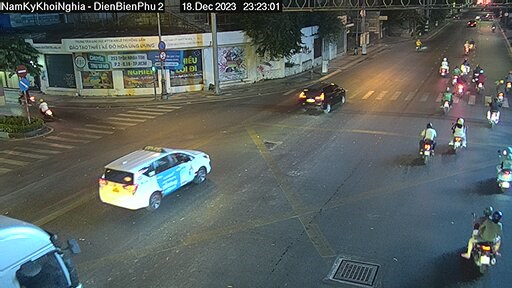car: (99, 141, 214, 210), (296, 79, 348, 117)
motorbike: (463, 200, 506, 278), (493, 141, 512, 198), (417, 122, 440, 165), (450, 117, 469, 154), (483, 97, 502, 126), (438, 86, 458, 113), (37, 102, 54, 122), (438, 52, 449, 78)
